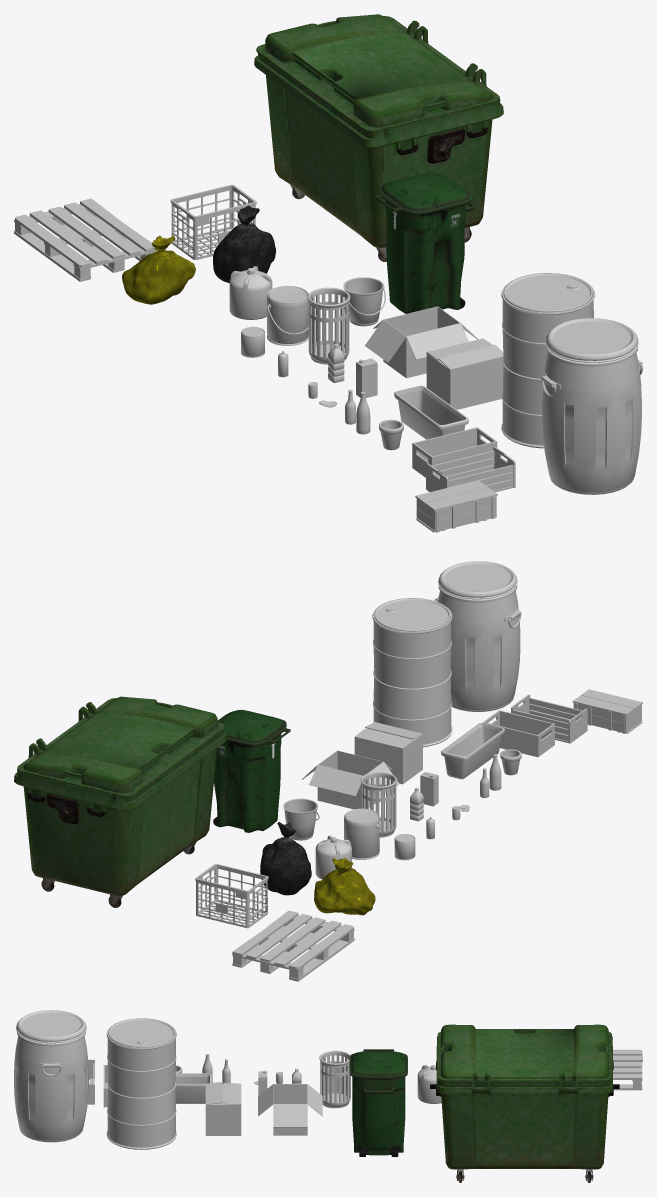
File: trash_all.fbx
The picture shows the model from 3 angles, top to bottom: view 1: azimuth 30°, elevation 25°; view 2: azimuth 150°, elevation 25°; view 3: azimuth 270°, elevation 25°; orthographic projection. The views are drawn at different scales.
Parts seen in each view (by area): view 1: trashbin_big, barrel_01, trashbin_small, barrel_03, palette_01, box_02, box_01, box_plastic_01, crate_03, trahs_bag_02, trahs_bag_01, crate_02 (+7 smaller); view 2: trashbin_big, barrel_03, barrel_01, trashbin_small, palette_01, box_plastic_01, box_01, box_02, trahs_bag_01, trahs_bag_02, plant_pod_01, crate_03 (+6 smaller); view 3: trashbin_big, barrel_01, barrel_03, trashbin_small, box_01, box_02, trashbin_01, palette_01, plant_pod_01, barrel_02, crate_02.
Part boxes in pixels (x1,y1,x2,y2): trashbin_big: (254,14,503,261); barrel_01: (541,318,642,494); trashbin_small: (374,172,474,313); barrel_03: (501,273,594,448); palette_01: (14,198,157,281); box_02: (426,338,503,409); box_01: (365,306,478,378); box_plastic_01: (170,184,256,259); crate_03: (415,480,497,532); trahs_bag_02: (122,235,195,304); trahs_bag_01: (213,205,275,282); crate_02: (426,446,515,492); trashbin_big: (14,696,226,907); barrel_03: (372,598,452,747); barrel_01: (434,561,521,711); trashbin_small: (213,709,290,832); palette_01: (232,910,354,981); box_plastic_01: (195,863,268,928); box_01: (302,750,399,809); box_02: (354,722,422,784); trahs_bag_01: (260,822,311,895); trahs_bag_02: (314,857,375,915); plant_pod_01: (441,723,504,779); crate_03: (572,689,642,733); trashbin_big: (430,1024,619,1182); barrel_01: (14,1010,88,1142); barrel_03: (106,1018,176,1149); trashbin_small: (349,1049,407,1156); box_01: (258,1084,322,1135); box_02: (205,1081,241,1135); trashbin_01: (319,1050,350,1108); palette_01: (613,1049,642,1090); plant_pod_01: (175,1073,211,1103); barrel_02: (417,1065,441,1103); crate_02: (87,1059,94,1104).
Bounding box in the file's own units: 707 × 307 × 1432.
